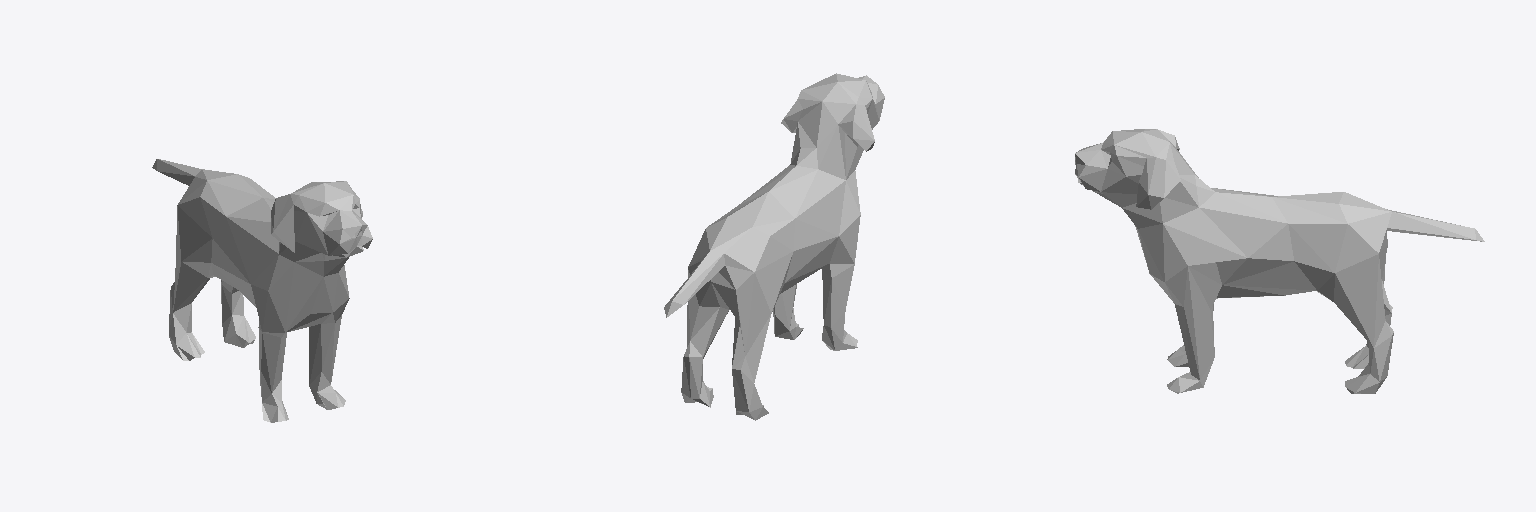
The model's file is dog2.obj.
The picture shows the model from 3 angles: view 1: azimuth 30°, elevation 25°; view 2: azimuth 150°, elevation 25°; view 3: azimuth 270°, elevation 25°; orthographic projection.
Visible parts, largest first — view 1: Dog_body; view 2: Dog_body; view 3: Dog_body.
Part boxes in pixels (left/top/right/bottom): Dog_body: left=152, top=159, right=372, bottom=422; Dog_body: left=664, top=73, right=884, bottom=420; Dog_body: left=1075, top=129, right=1484, bottom=393.
Size of the model in its own units: 0.503 by 1.32 by 1.99.